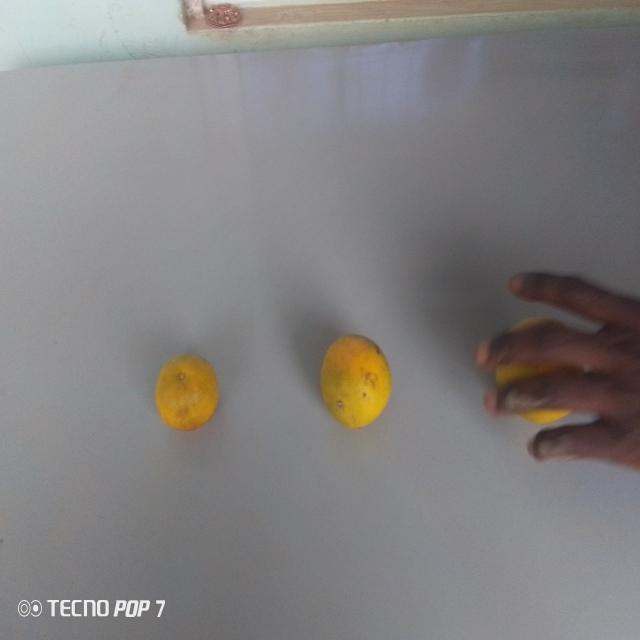Ripe orange: (307, 326, 396, 432), (152, 357, 228, 439)
